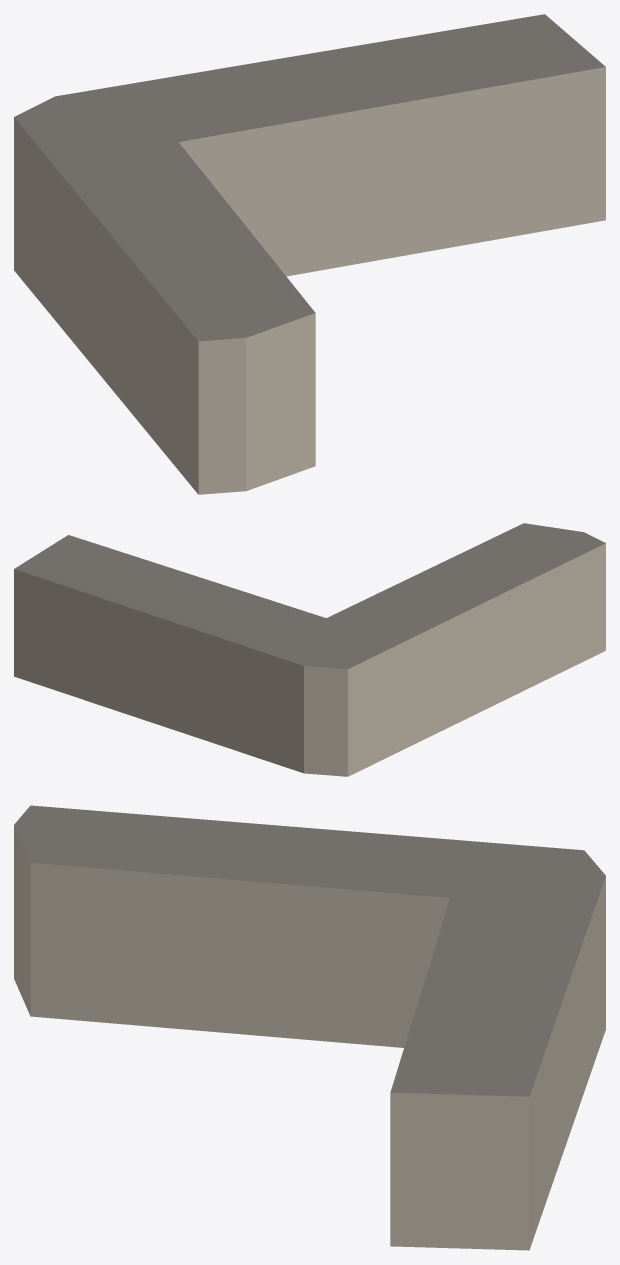
3 renders of one model, top to bottom at view 1: azimuth 30°, elevation 25°; view 2: azimuth 150°, elevation 25°; view 3: azimuth 270°, elevation 25°, orthographic. The views are drawn at different scales.
Parts seen in each view (by area): view 1: HP-w494955743; view 2: HP-w494955743; view 3: HP-w494955743.
Part boxes in pixels (<box>): HP-w494955743: <box>14,14,605,494</box>; HP-w494955743: <box>14,523,605,776</box>; HP-w494955743: <box>14,805,605,1250</box>.
Bounding box in the file's own units: 73.11 × 18 × 62.8.
